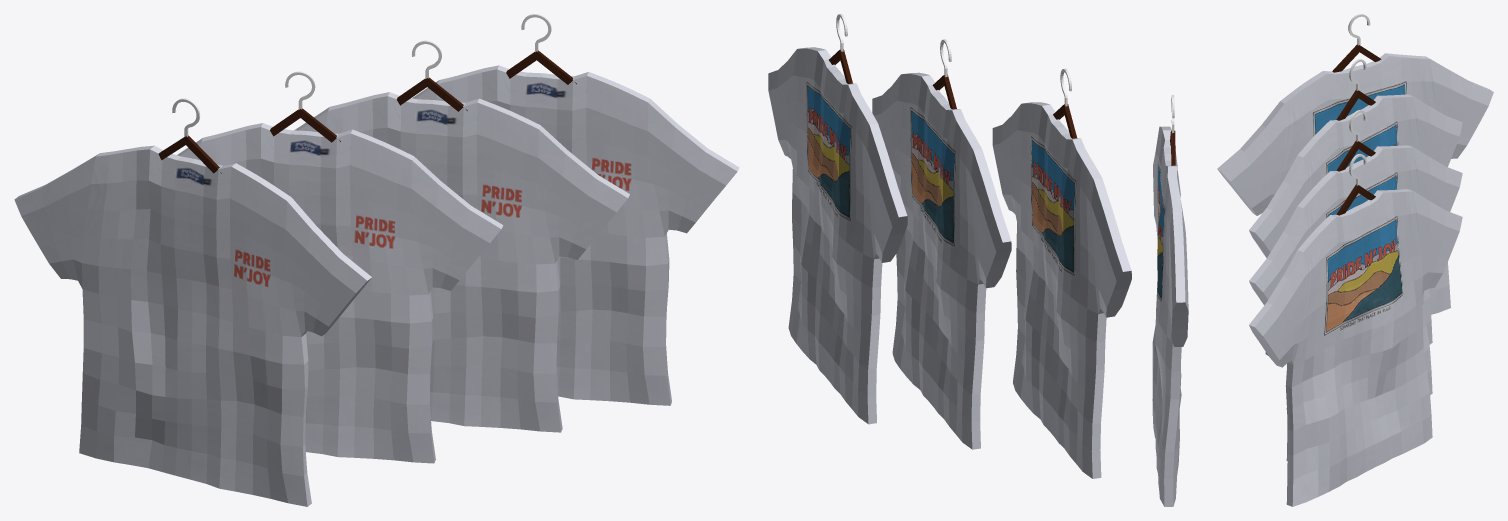
Rendered from tshirtwthgambar.glb.
3 renders of one model, left to right at view 1: azimuth 30°, elevation 25°; view 2: azimuth 150°, elevation 25°; view 3: azimuth 270°, elevation 25°, orthographic. The views are drawn at different scales.
Parts seen in each view (by area): view 1: Plane.433; view 2: Plane.433; view 3: Plane.433.
Part boxes in pixels (box(x1,y1,x2,y2)): Plane.433: box(14, 14, 739, 506); Plane.433: box(768, 14, 1188, 506); Plane.433: box(1217, 14, 1493, 506).
Bounding box in the file's own units: 0.6024 × 0.3774 × 0.302.
Materials: 3 (3 with a texture image).
